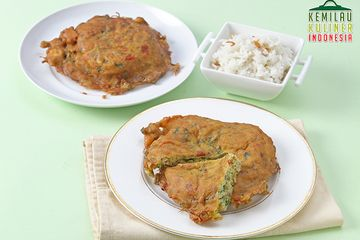makanan_berpati: (229, 33, 277, 74)
telur: (154, 120, 256, 201), (65, 24, 148, 88)
